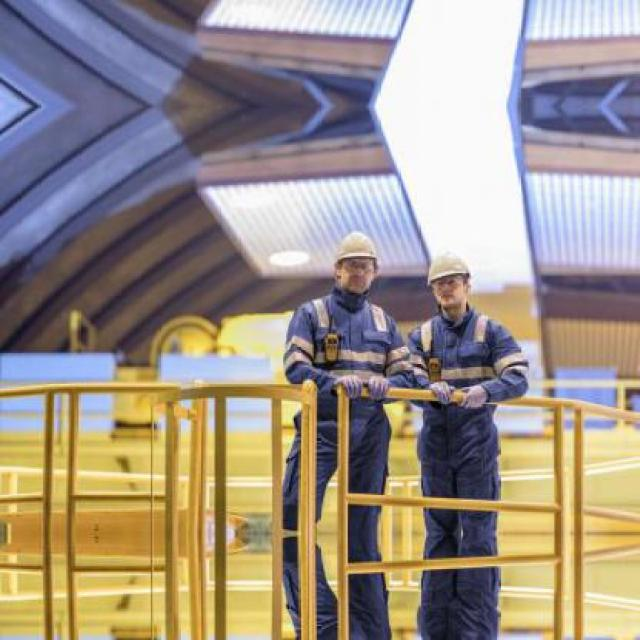helmet: (422, 242, 476, 318), (329, 225, 382, 298)
